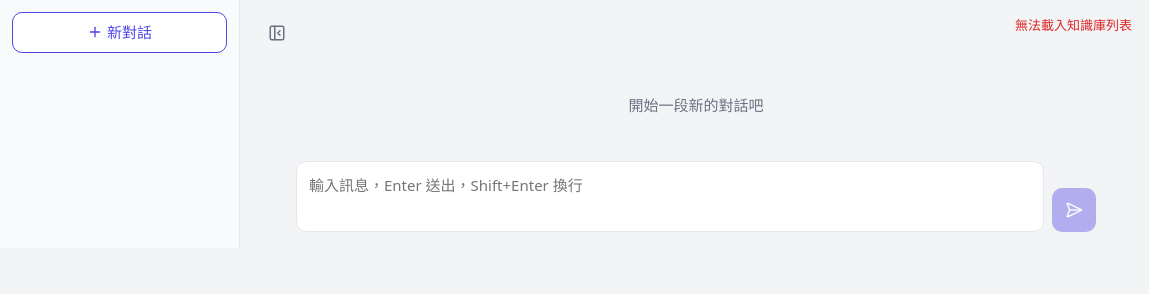
ChatPage › puts a rejected message back into the composer with the error
This screenshot has width=1149, height=294.
In the text box: [670, 196] box [296,160,1044,232], type "原文"
Then press Enter
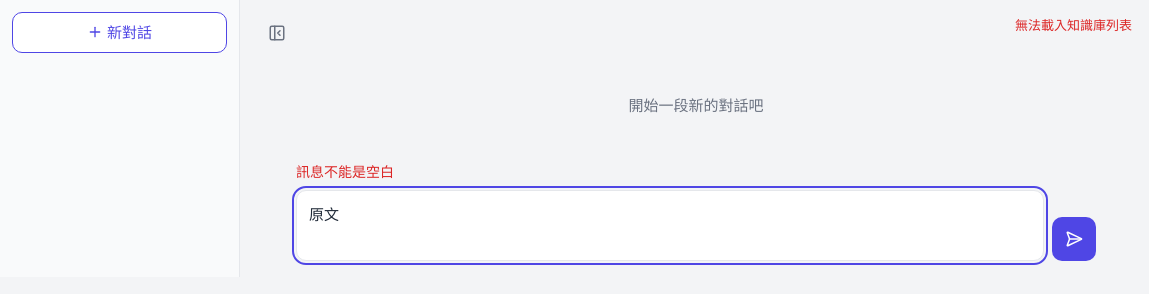
Check: the text "訊息不能是空白" is shown, box [296,162,394,180]
